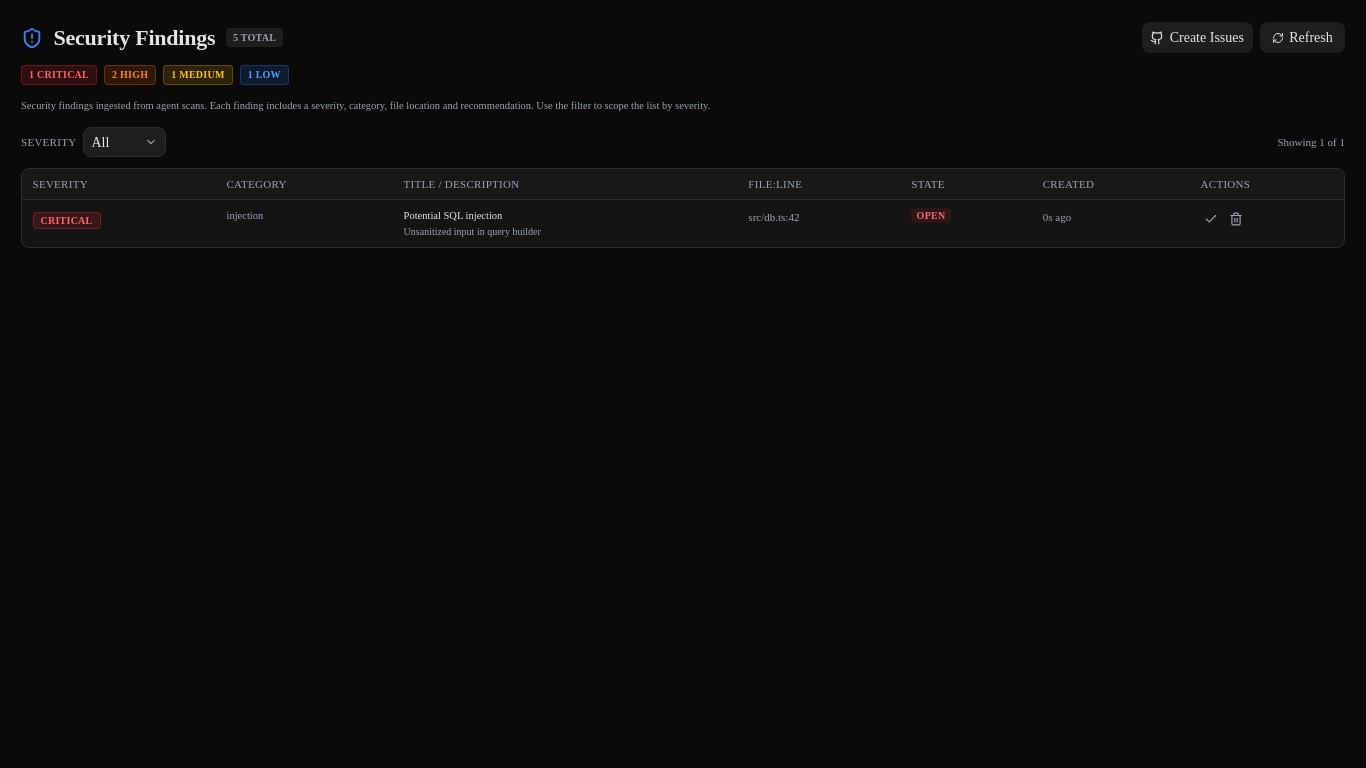
Scenario: SecurityFindingsPage › GitHub issues action › opens the GitHub issues dialog on button click
Step 1. Click the button with test id "create-github-issues-btn" → coordinates (1197, 38), box 1142,22 -> 1253,53
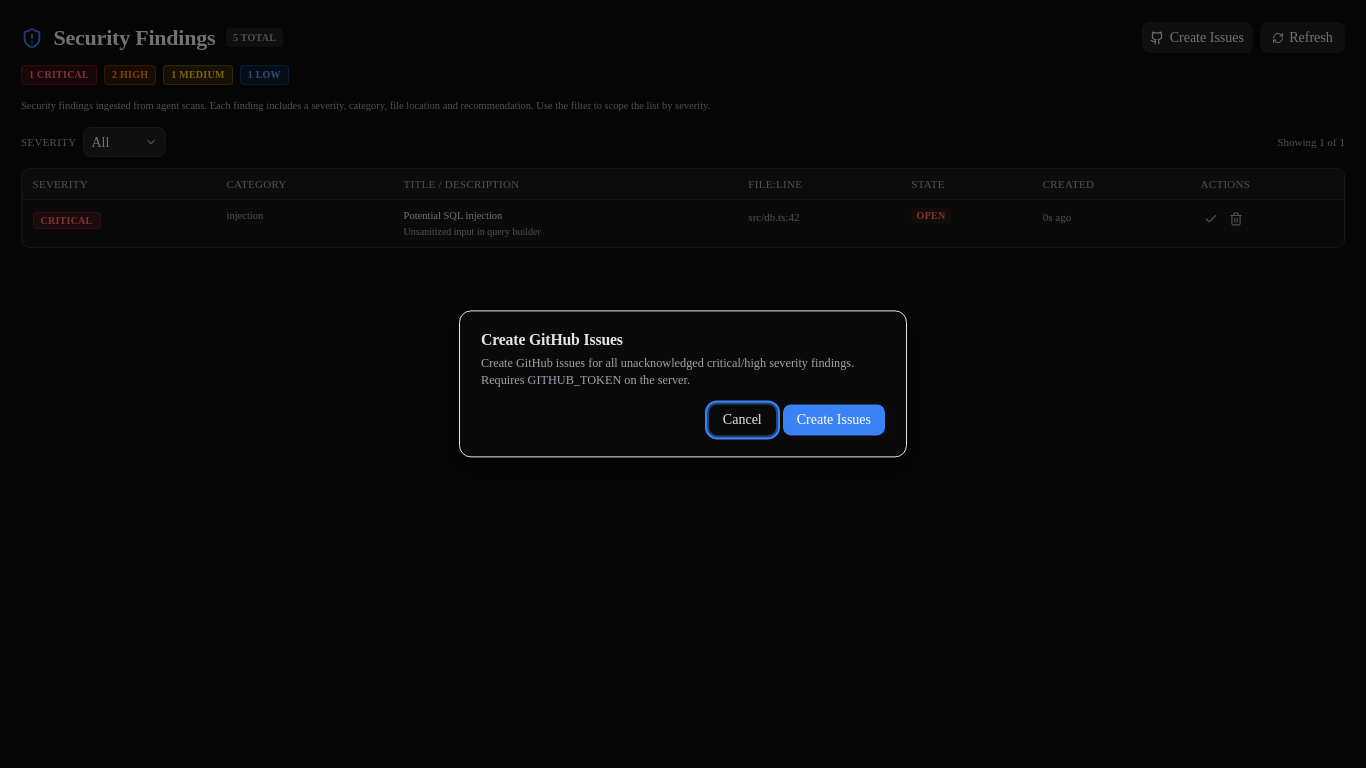
Now the dialog with test id "confirm-dialog" is shown, box 459,310 -> 907,458
Now the heading "Create GitHub Issues" is shown, box 481,331 -> 623,348
